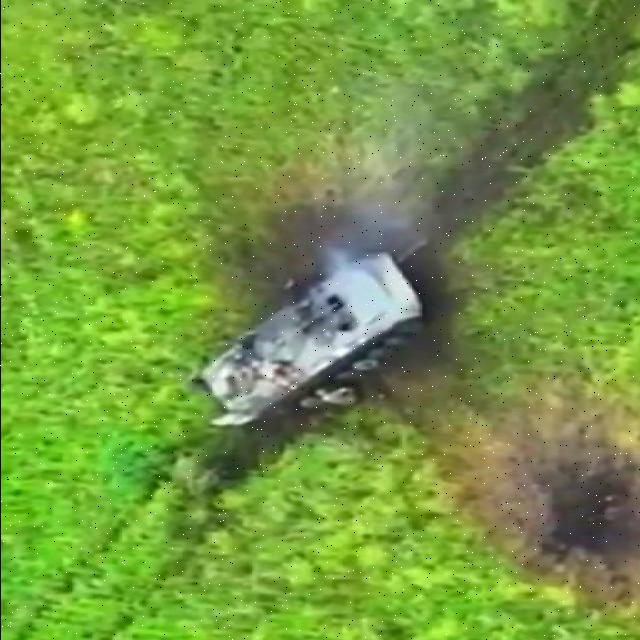APC-IFV: (189, 242, 429, 426)
